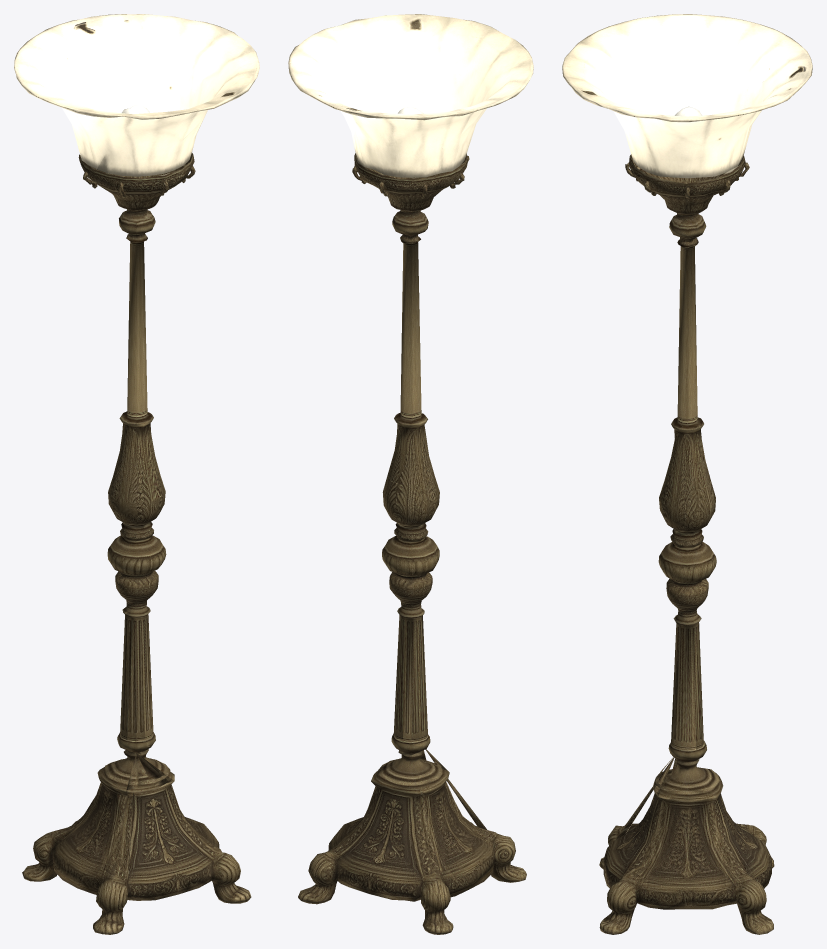
Rendered from rrr_prop_torchiere_v1.glb.
The picture shows the model from 3 angles, left to right: view 1: azimuth 30°, elevation 25°; view 2: azimuth 150°, elevation 25°; view 3: azimuth 270°, elevation 25°; orthographic projection.
Visible parts, largest first — view 1: Mesh_0; view 2: Mesh_0; view 3: Mesh_0.
Part boxes in pixels (x1,y1,x2,y2): Mesh_0: (14,14,259,934); Mesh_0: (288,14,533,934); Mesh_0: (562,14,812,934).
Bounding box in the file's own units: 0.4632 × 1.7 × 0.4648.
Materials: 1 (1 with a texture image).
